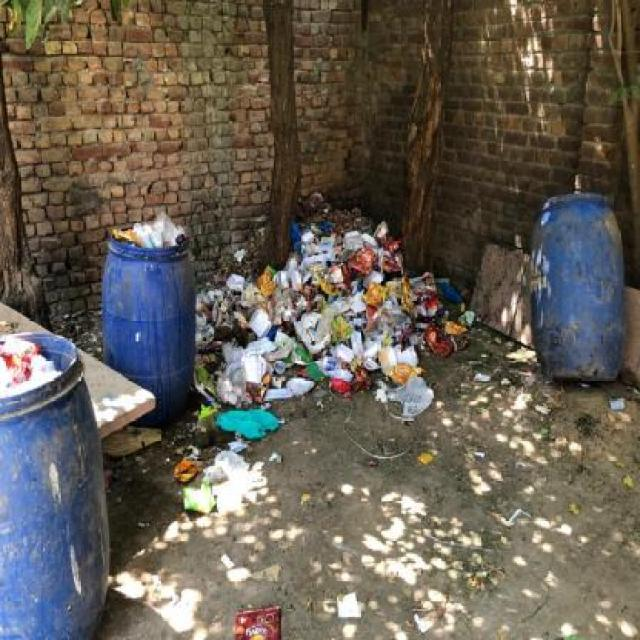garbage: (237, 211, 486, 434), (2, 309, 136, 639), (88, 209, 232, 506), (517, 179, 626, 403), (229, 576, 381, 640), (417, 450, 438, 476), (540, 417, 561, 440)
